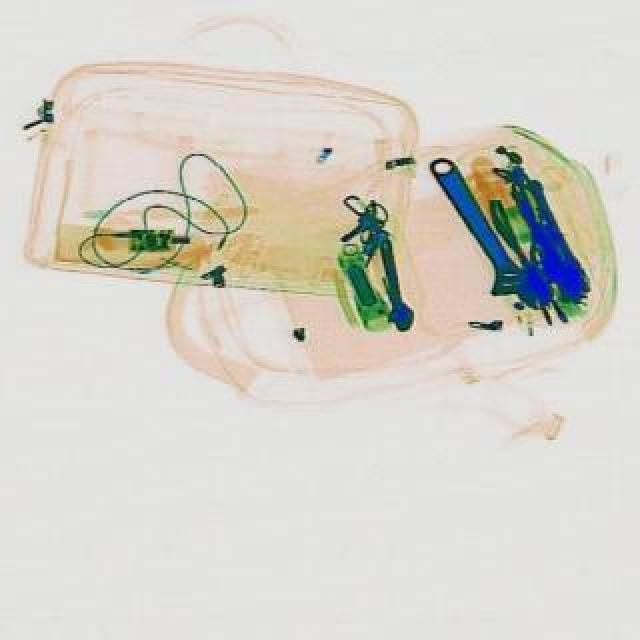scissors: (410, 152, 560, 328), (374, 238, 420, 334)
wrench: (492, 192, 574, 318)
